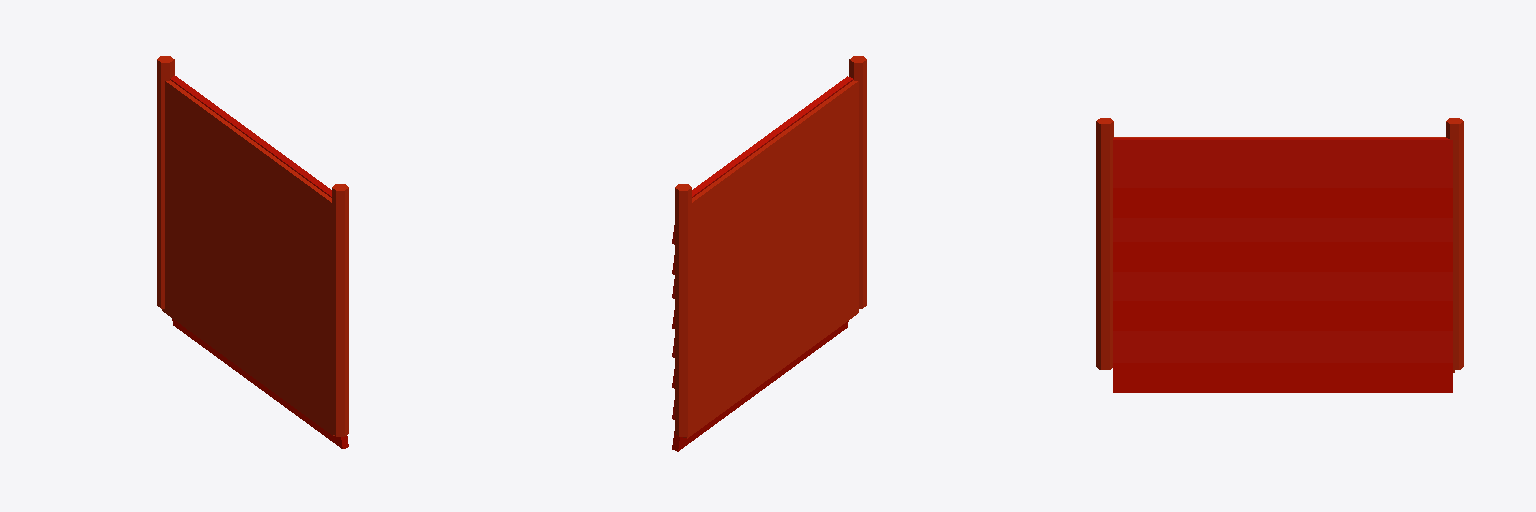
The model's file is low_poly_wall.obj.
The picture shows the model from 3 angles: view 1: azimuth 30°, elevation 25°; view 2: azimuth 150°, elevation 25°; view 3: azimuth 270°, elevation 25°; orthographic projection.
Visible parts, largest first — view 1: Cube.008_Cube.009, Cylinder, Cylinder.001, Cube.006_Cube.007, Cube_Cube.001; view 2: Cube.008_Cube.009, Cylinder.001, Cylinder, Cube.006_Cube.007, Cube_Cube.001; view 3: Cube.006_Cube.007, Cube.001_Cube.002, Cube_Cube.001, Cube.003_Cube.004, Cube.004_Cube.005, Cube.007_Cube.008, Cube.002_Cube.003, Cube.005_Cube.006, Cylinder, Cylinder.001.
Boxes of the visible parts, box(x1,y1,x2,y2) form: Cube.008_Cube.009: box(162, 80, 334, 435); Cylinder: box(332, 184, 348, 436); Cylinder.001: box(157, 56, 174, 308); Cube.006_Cube.007: box(170, 75, 331, 197); Cube_Cube.001: box(172, 319, 348, 448); Cube.008_Cube.009: box(683, 80, 858, 438); Cylinder.001: box(675, 184, 691, 436); Cylinder: box(849, 56, 866, 308); Cube.006_Cube.007: box(672, 76, 853, 244); Cube_Cube.001: box(672, 321, 848, 451); Cube.006_Cube.007: box(1113, 138, 1452, 187); Cube.001_Cube.002: box(1113, 331, 1452, 362); Cube_Cube.001: box(1113, 363, 1452, 392); Cube.003_Cube.004: box(1113, 301, 1452, 330); Cube.004_Cube.005: box(1113, 242, 1452, 271); Cube.007_Cube.008: box(1113, 188, 1452, 217); Cube.002_Cube.003: box(1113, 272, 1452, 300); Cube.005_Cube.006: box(1113, 218, 1452, 241); Cylinder: box(1096, 118, 1113, 369); Cylinder.001: box(1446, 118, 1463, 369).
Size of the model in its own units: 0.8966 by 11.81 by 14.74.